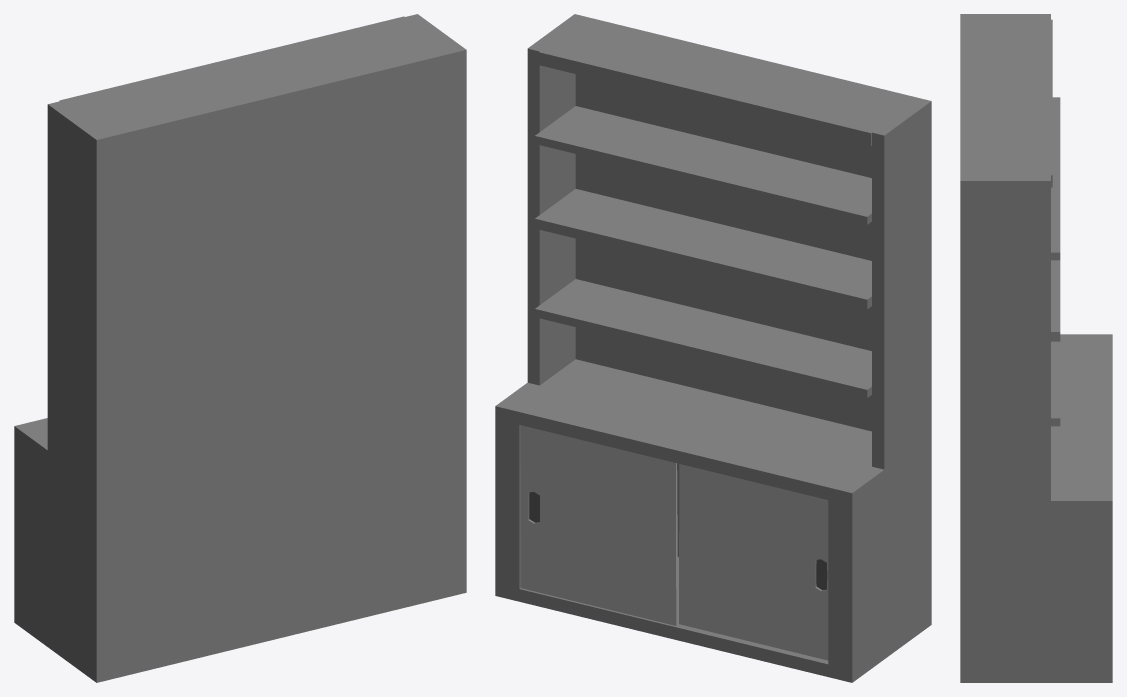
The model's file is BookcaseModel.fbx.
3 views of the same model, side by side, from view 1: azimuth 30°, elevation 25°; view 2: azimuth 150°, elevation 25°; view 3: azimuth 270°, elevation 25° (orthographic). The views are drawn at different scales.
Visible parts, largest first — view 1: BookcaseModel; view 2: BookcaseModel; view 3: BookcaseModel.
Boxes of the visible parts, left/top/right/bottom form: BookcaseModel: left=14, top=14, right=466, bottom=682; BookcaseModel: left=495, top=14, right=931, bottom=682; BookcaseModel: left=960, top=14, right=1112, bottom=682.
Bounding box in the file's own units: 193 × 271 × 74.56.
